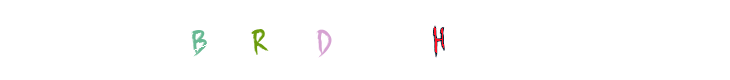0: (398, 0, 478, 80), (399, 0, 479, 80)
7: (197, 0, 277, 80)
8: (289, 0, 369, 80)
B: (218, 0, 298, 80)
D: (225, 0, 305, 80)
H: (325, 0, 405, 80)
R: (218, 0, 298, 80)
